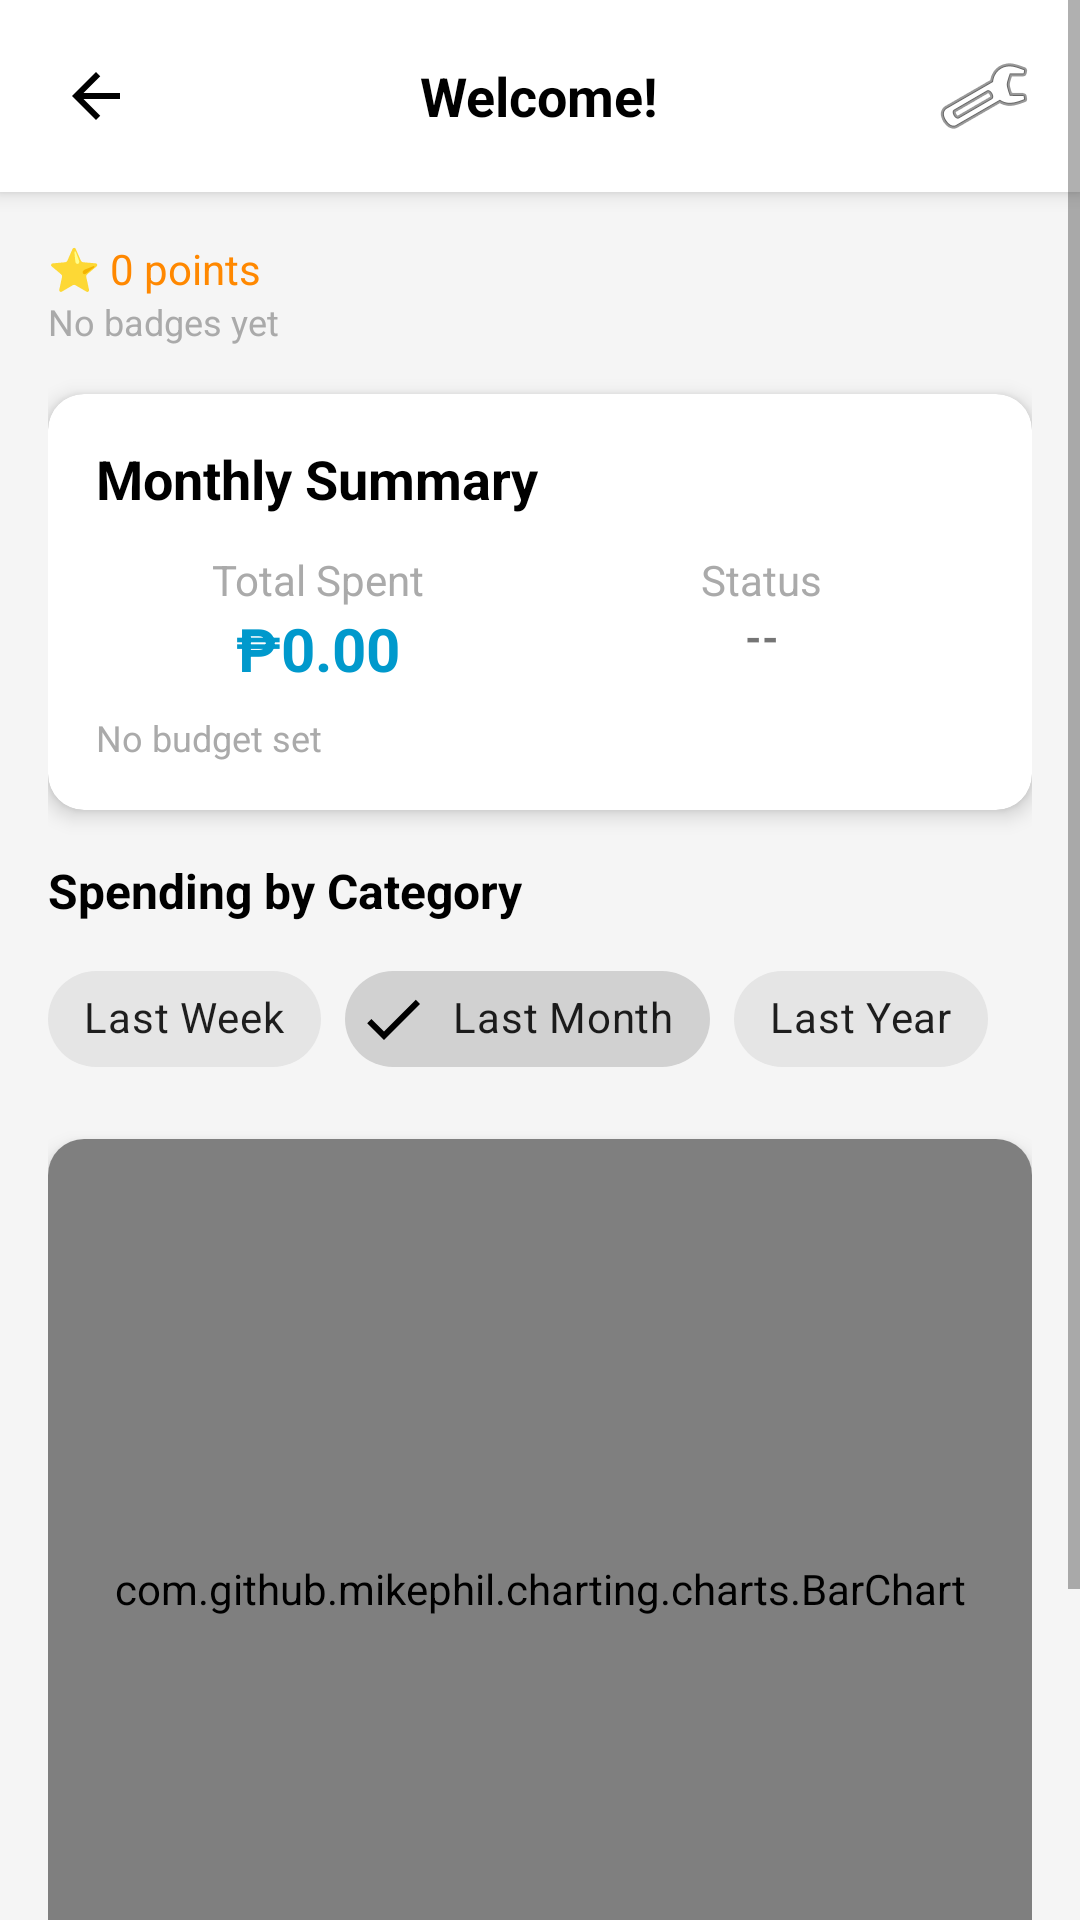

Icons on this 1080px×1920px Android screen, each with its box as (x1, y1, x2, y2):
Back: (72, 72, 120, 120)
Settings: (941, 63, 1027, 129)
